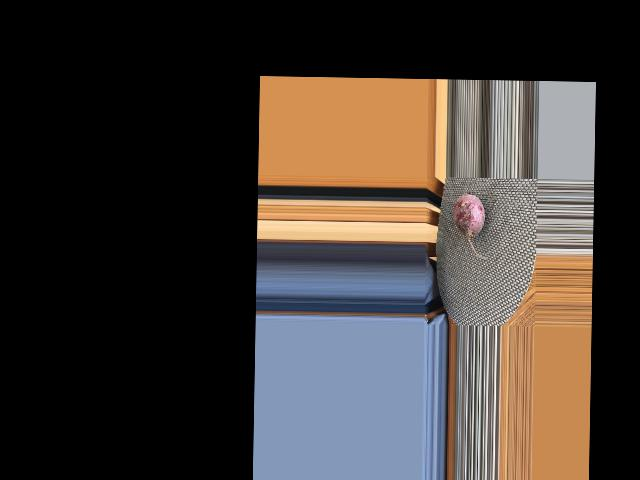beet: (452, 194, 489, 259)
